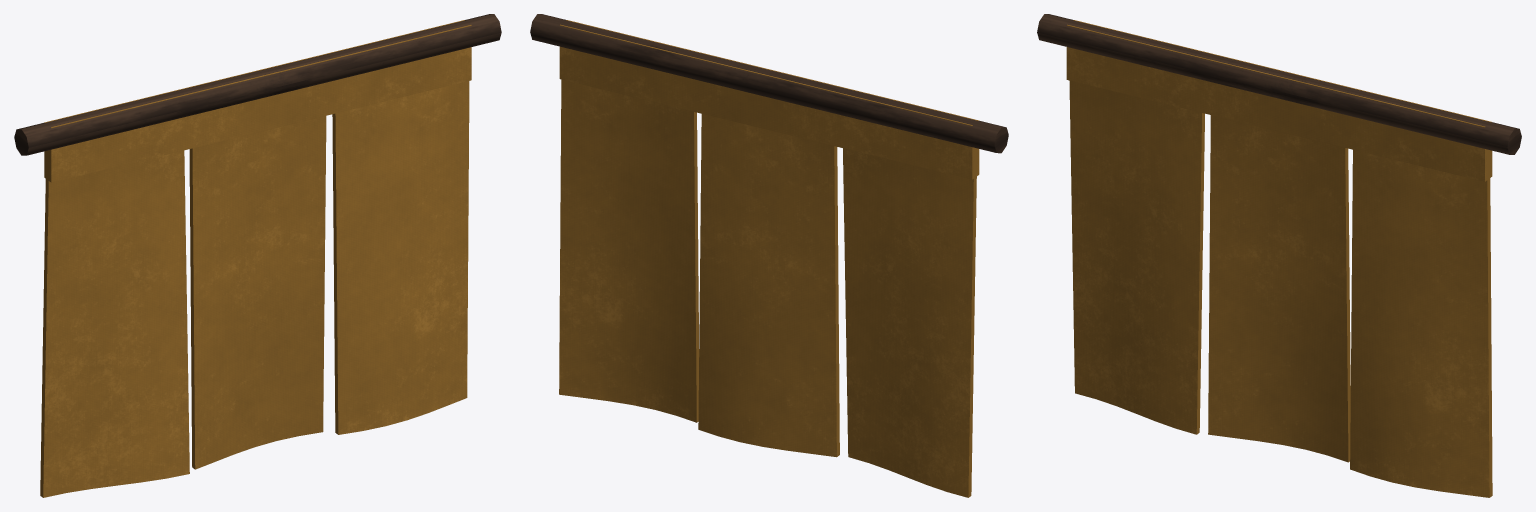
File: HO_Prop_Noren_4_Ochre.fbx
3 renders of one model, left to right at view 1: azimuth 30°, elevation 25°; view 2: azimuth 150°, elevation 25°; view 3: azimuth 330°, elevation 25°, orthographic.
Parts seen in each view (by area): view 1: HO_Prop_Noren_4_Ochre; view 2: HO_Prop_Noren_4_Ochre; view 3: HO_Prop_Noren_4_Ochre.
Boxes of the visible parts, x1,y1,x2,y2 form: HO_Prop_Noren_4_Ochre: (14,14,501,497); HO_Prop_Noren_4_Ochre: (530,14,1008,497); HO_Prop_Noren_4_Ochre: (1037,14,1521,497).
Bounding box in the file's own units: 4.5 × 3.44 × 0.25.
